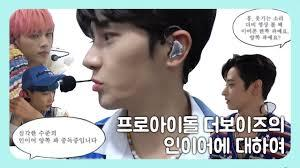earphone: (168, 39, 183, 60)
